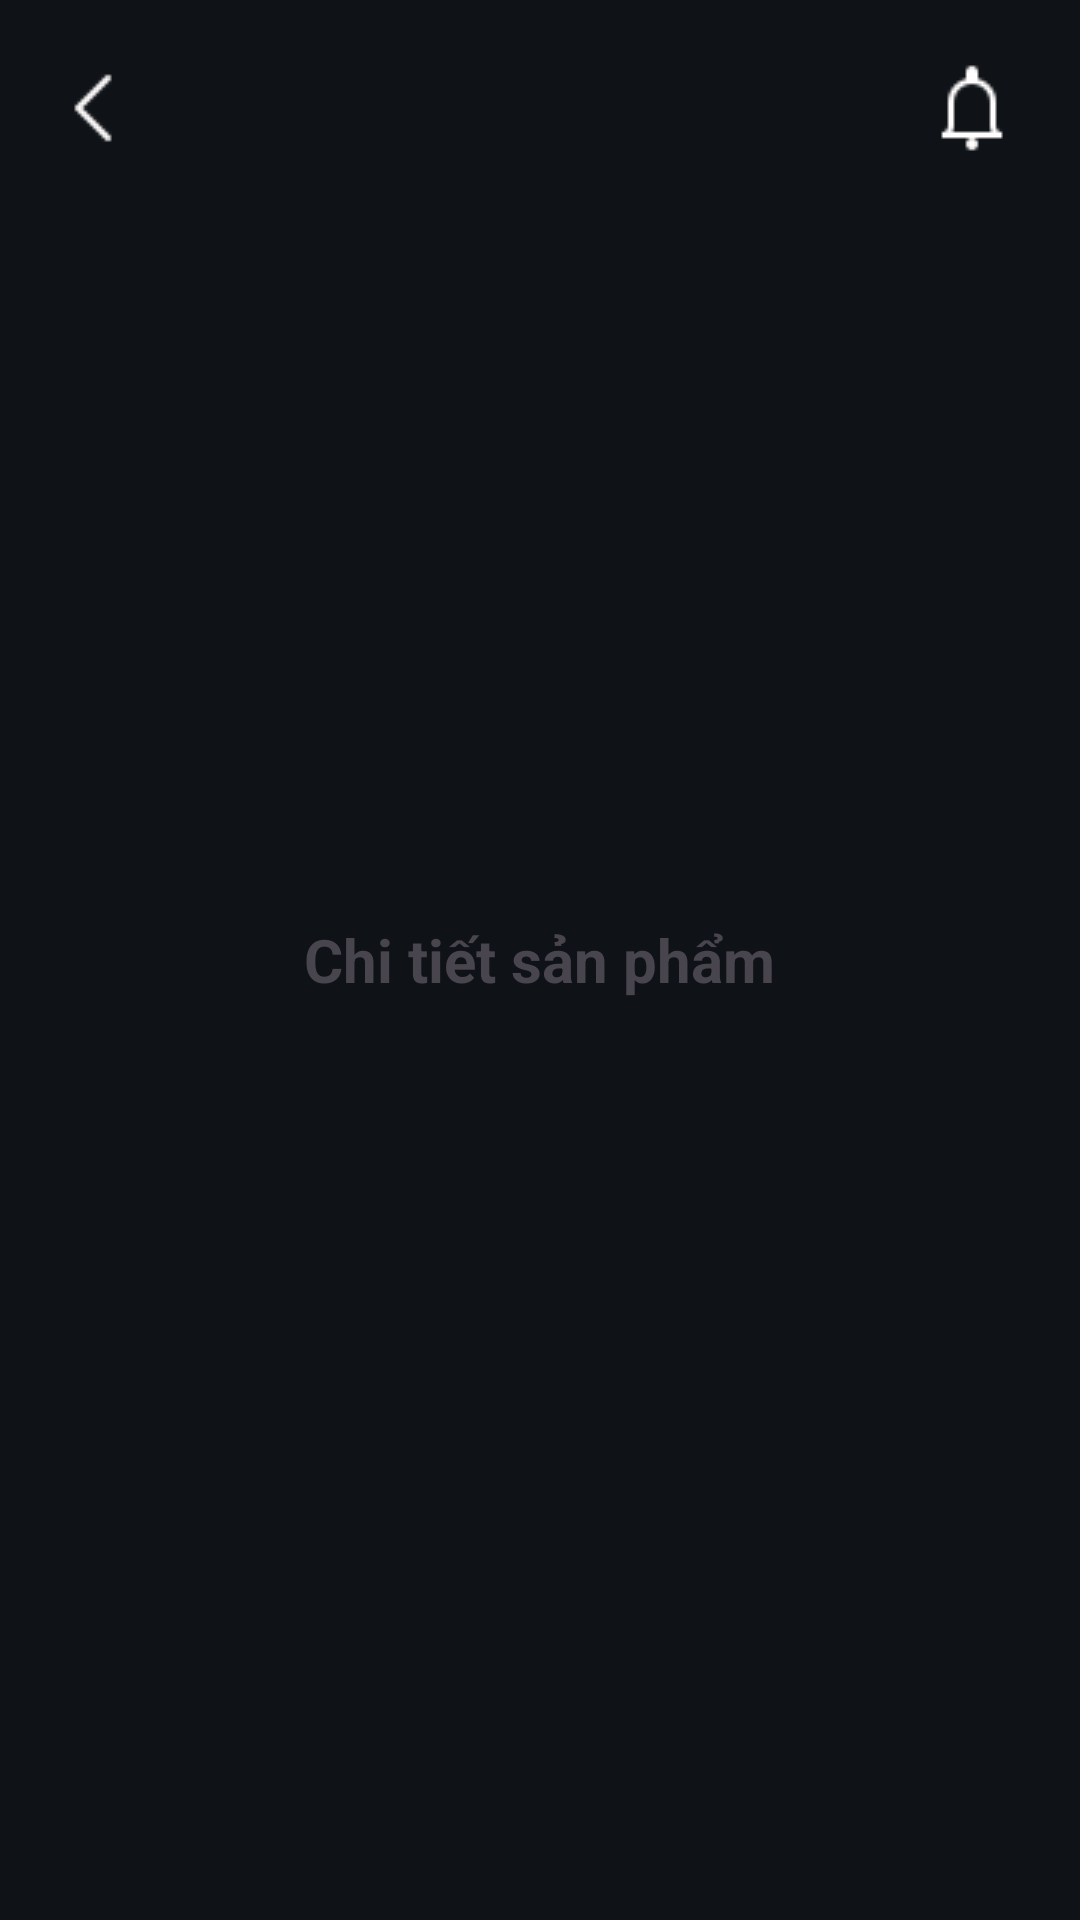

Icons on this 1080*1920 Android screen, each with the point to tap as point (x, y):
Back: point (93, 108)
Notification: point (972, 108)
